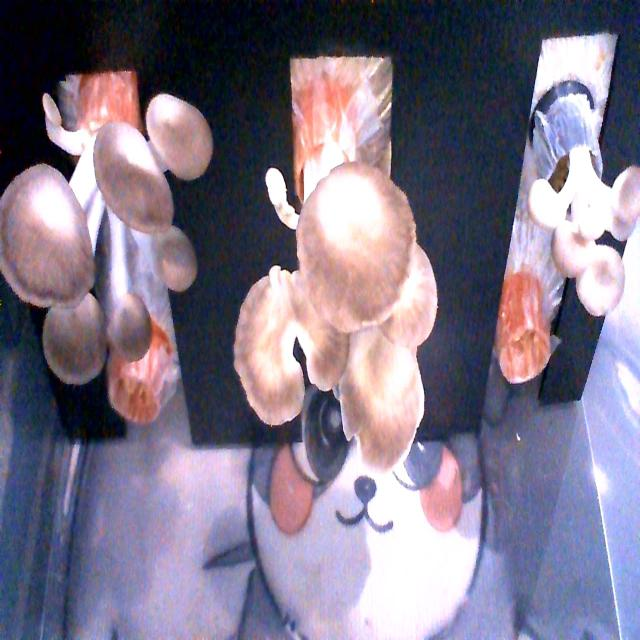big: (0, 79, 210, 393), (230, 172, 443, 472)
nfound: (98, 321, 184, 431), (491, 294, 562, 396)
small: (520, 150, 640, 318)
